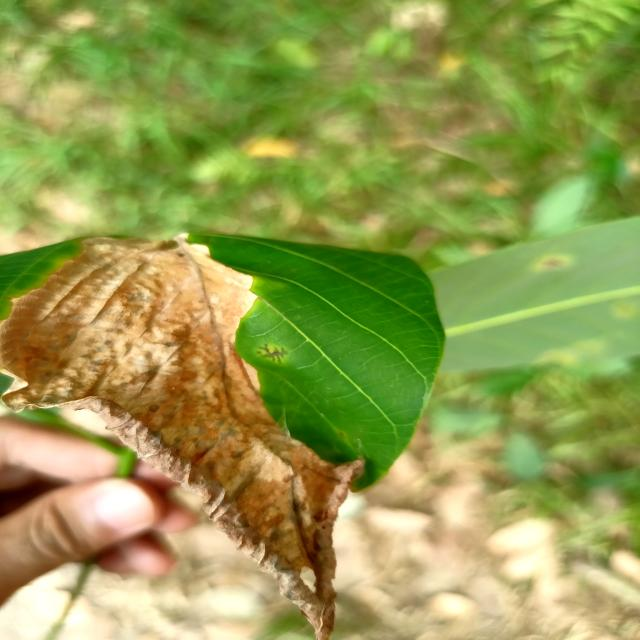Corynespora: (256, 344, 290, 364)
Leaf-Blight: (0, 232, 364, 640)
